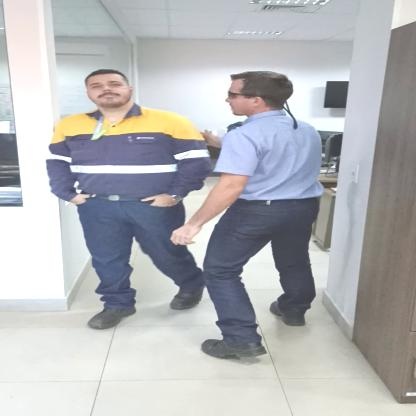Operacional: (52, 111, 206, 198)
